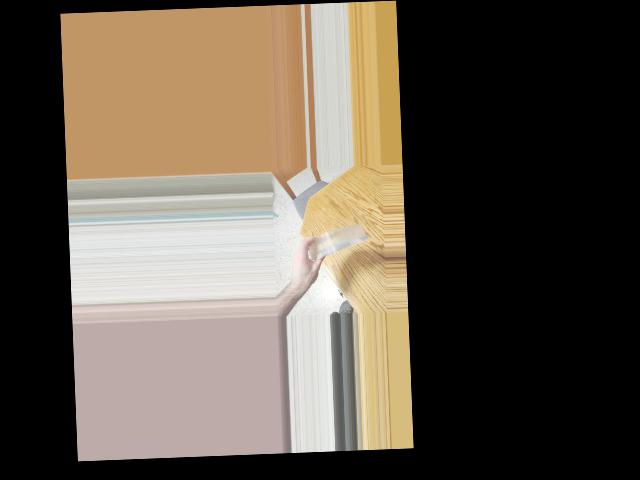cheese: (300, 227, 369, 254)
